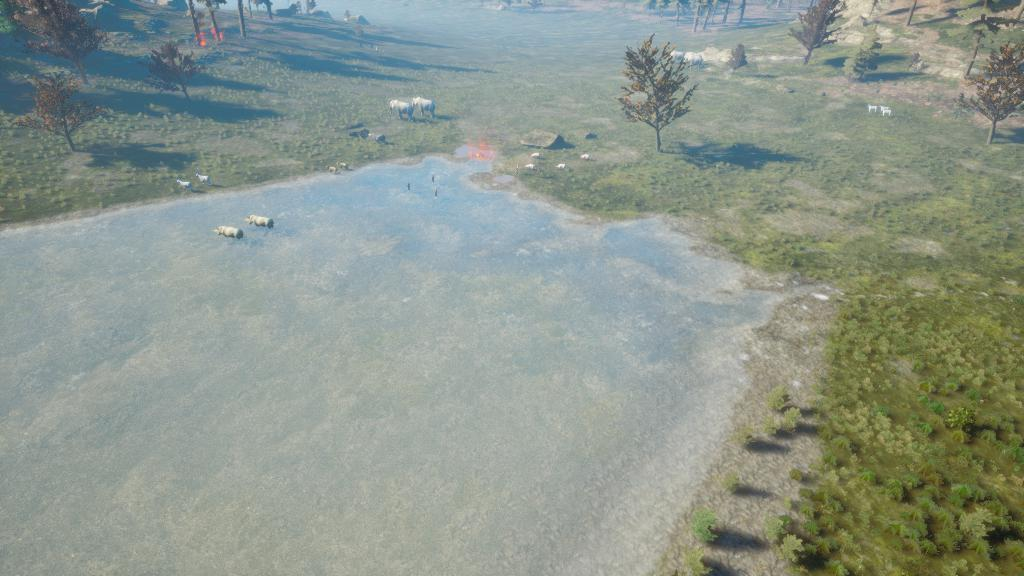Fire: (465, 135, 497, 161), (207, 23, 227, 42), (191, 31, 209, 48)
elephant: (386, 99, 418, 122), (411, 95, 438, 118), (683, 51, 704, 69), (668, 49, 684, 63)
hippopotamus: (244, 213, 277, 231), (214, 223, 245, 242), (336, 159, 349, 171), (326, 163, 339, 175)
human: (537, 168, 543, 182), (434, 187, 440, 200), (406, 181, 412, 193), (431, 172, 436, 184), (516, 163, 519, 178)
pig: (556, 163, 566, 172), (580, 153, 591, 161), (524, 163, 536, 170), (530, 153, 541, 159)
zebra: (175, 178, 196, 194), (194, 171, 213, 186), (866, 103, 879, 114), (879, 109, 893, 117), (879, 104, 891, 111)
